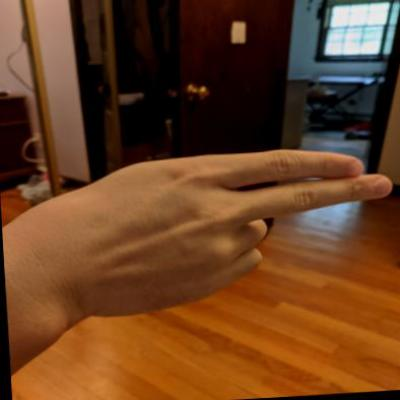hand: (32, 137, 399, 325)
